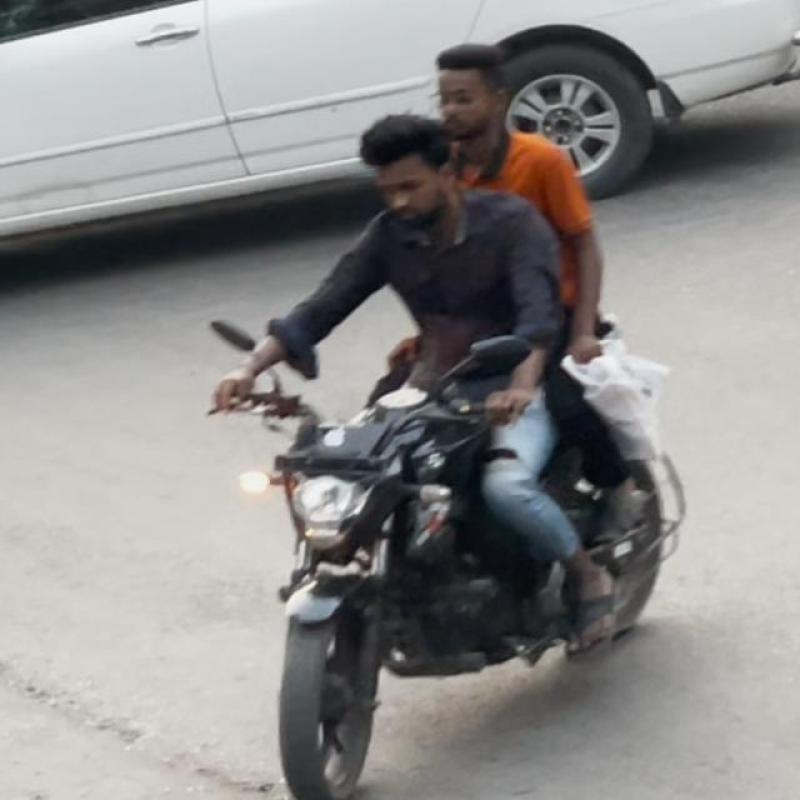nohelmet: (315, 114, 500, 228), (395, 42, 534, 133)
